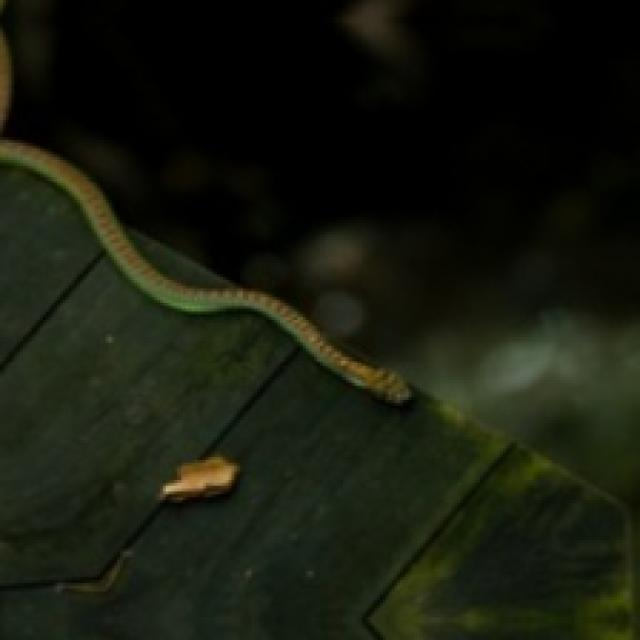paradise tree snake: (0, 140, 411, 403)
